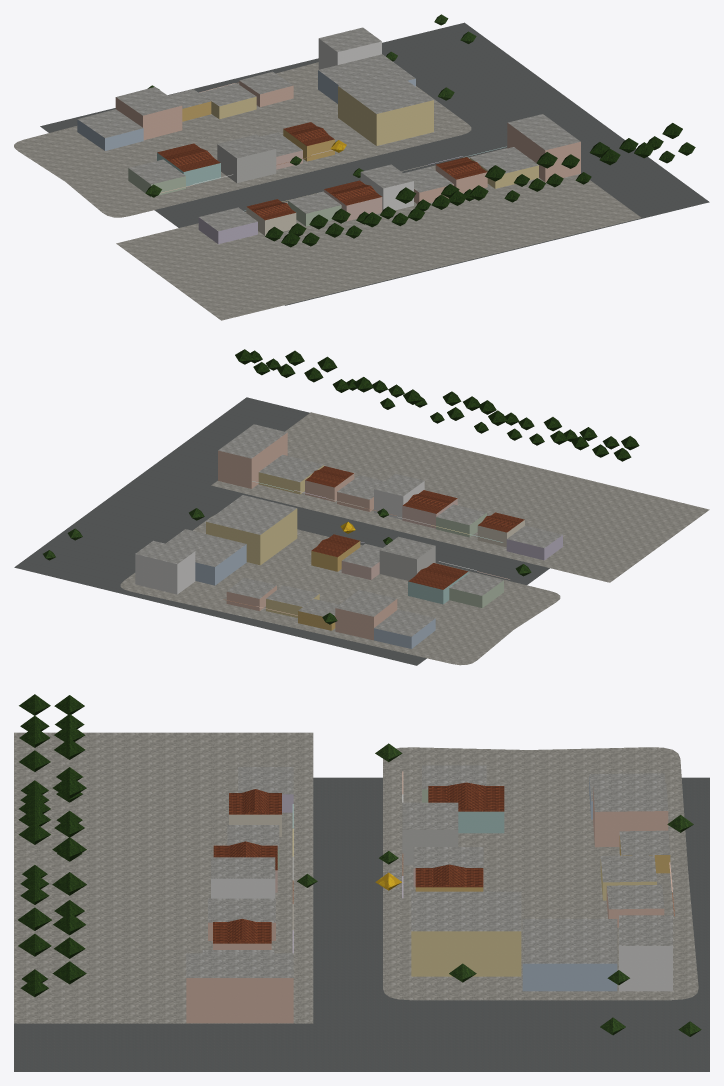
The model's file is cidade_S05_00_lod.gltf.
3 views of the same model, one above another, from view 1: azimuth 30°, elevation 25°; view 2: azimuth 150°, elevation 25°; view 3: azimuth 270°, elevation 25° (orthographic). The views are drawn at different scales.
Parts seen in each view (by area): view 1: S05_00_Chao_LOD2, S05_00_Edificios_LOD1, S05_00_Vegetacao_LOD2, S05_00_Silhueta_LOD2; view 2: S05_00_Chao_LOD2, S05_00_Edificios_LOD1, S05_00_Vegetacao_LOD2, S05_00_Silhueta_LOD2; view 3: S05_00_Chao_LOD2, S05_00_Edificios_LOD1, S05_00_Vegetacao_LOD2, S05_00_Silhueta_LOD2.
Part boxes in pixels (bbox=[...]): S05_00_Chao_LOD2: bbox=[14, 22, 709, 320]; S05_00_Edificios_LOD1: bbox=[77, 27, 580, 244]; S05_00_Vegetacao_LOD2: bbox=[145, 14, 695, 247]; S05_00_Silhueta_LOD2: bbox=[157, 122, 487, 234]; S05_00_Chao_LOD2: bbox=[14, 397, 709, 665]; S05_00_Edificios_LOD1: bbox=[135, 424, 562, 648]; S05_00_Vegetacao_LOD2: bbox=[43, 349, 639, 624]; S05_00_Silhueta_LOD2: bbox=[305, 466, 524, 603]; S05_00_Chao_LOD2: bbox=[14, 732, 709, 1071]; S05_00_Edificios_LOD1: bbox=[186, 765, 674, 1023]; S05_00_Vegetacao_LOD2: bbox=[18, 694, 701, 1036]; S05_00_Silhueta_LOD2: bbox=[213, 786, 504, 949].
Size of the model in its own units: 115 by 15.98 by 100.
20 materials, 20 textured.
